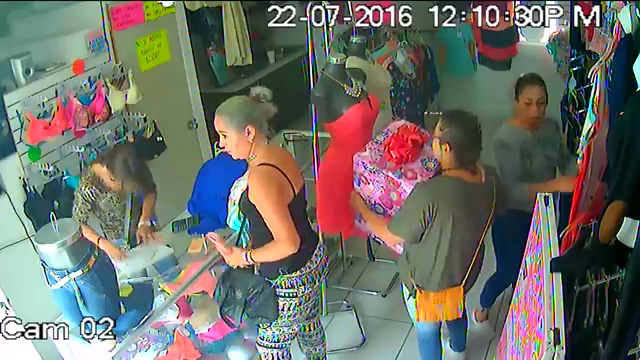face: (213, 114, 249, 158), (515, 90, 547, 124)
